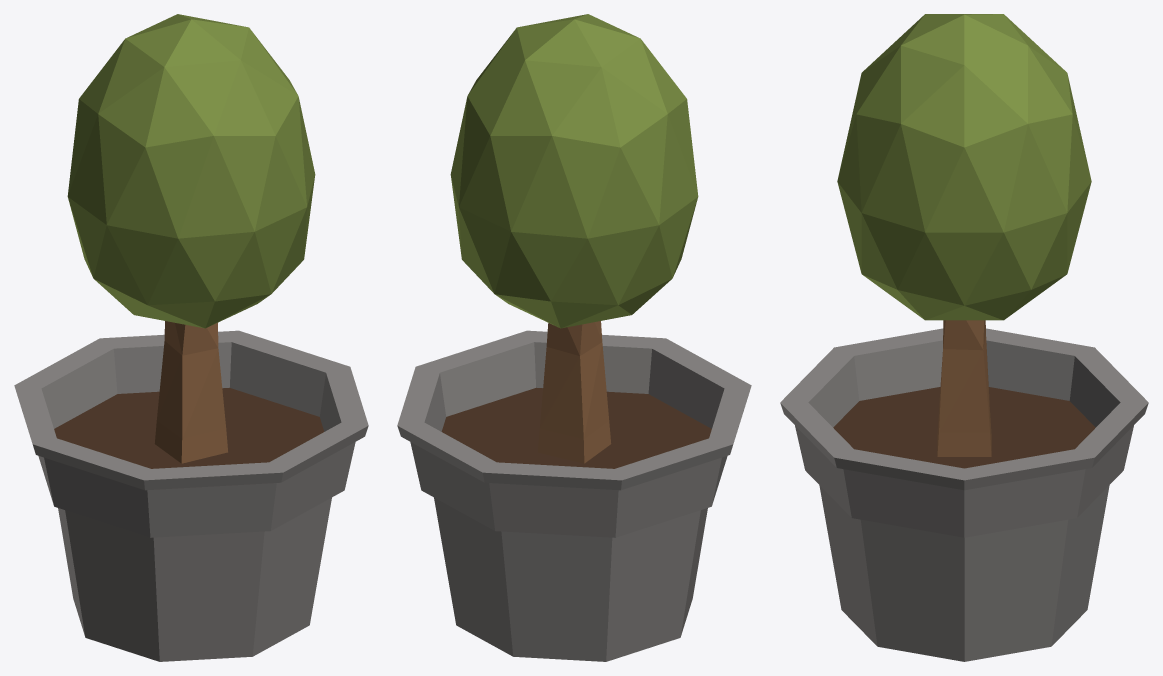
Rendered from Tree_01.fbx.
3 views of the same model, side by side, from view 1: azimuth 30°, elevation 25°; view 2: azimuth 150°, elevation 25°; view 3: azimuth 270°, elevation 25° (orthographic).
Visible parts, largest first — view 1: Tree_01; view 2: Tree_01; view 3: Tree_01.
Part boxes in pixels (bbox=[...]): Tree_01: bbox=[14, 14, 368, 661]; Tree_01: bbox=[397, 14, 751, 661]; Tree_01: bbox=[780, 14, 1148, 661].
Bounding box in the file's own units: 53.46 × 95.27 × 53.46.
